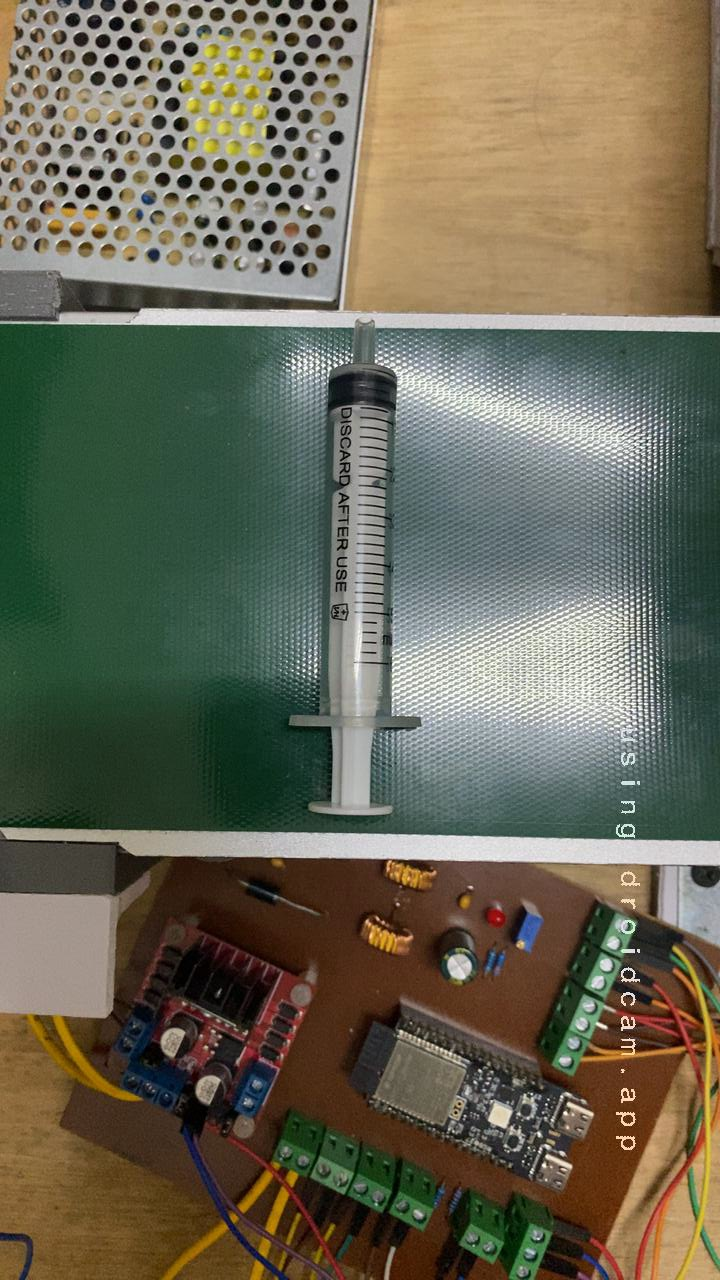syringe: (246, 347, 481, 826)
